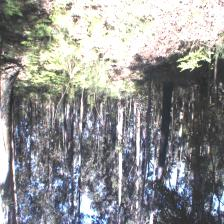trunktrack_idkeyframe: (158, 86, 174, 162), (146, 83, 152, 153)
